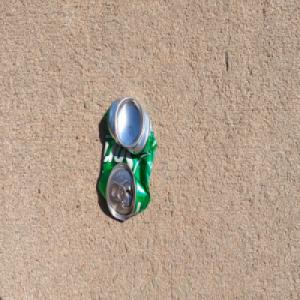SodaCan: (97, 95, 157, 222)
